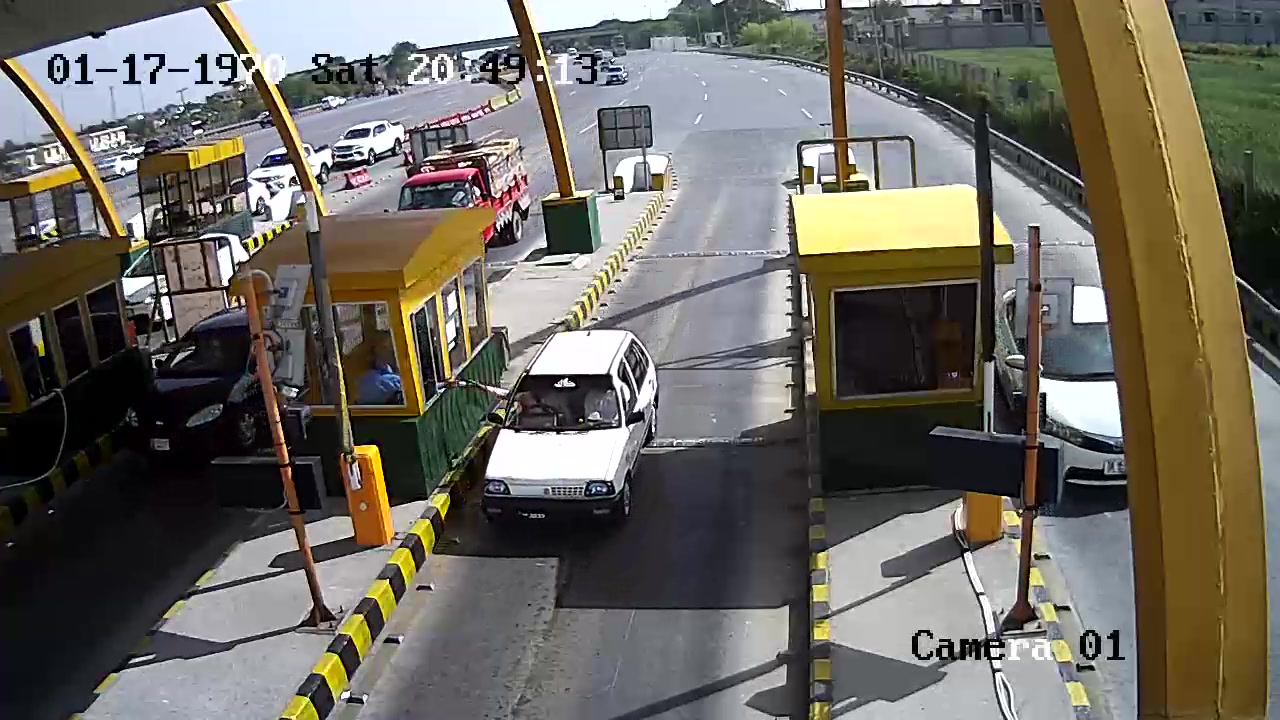F1: (477, 324, 676, 532)
